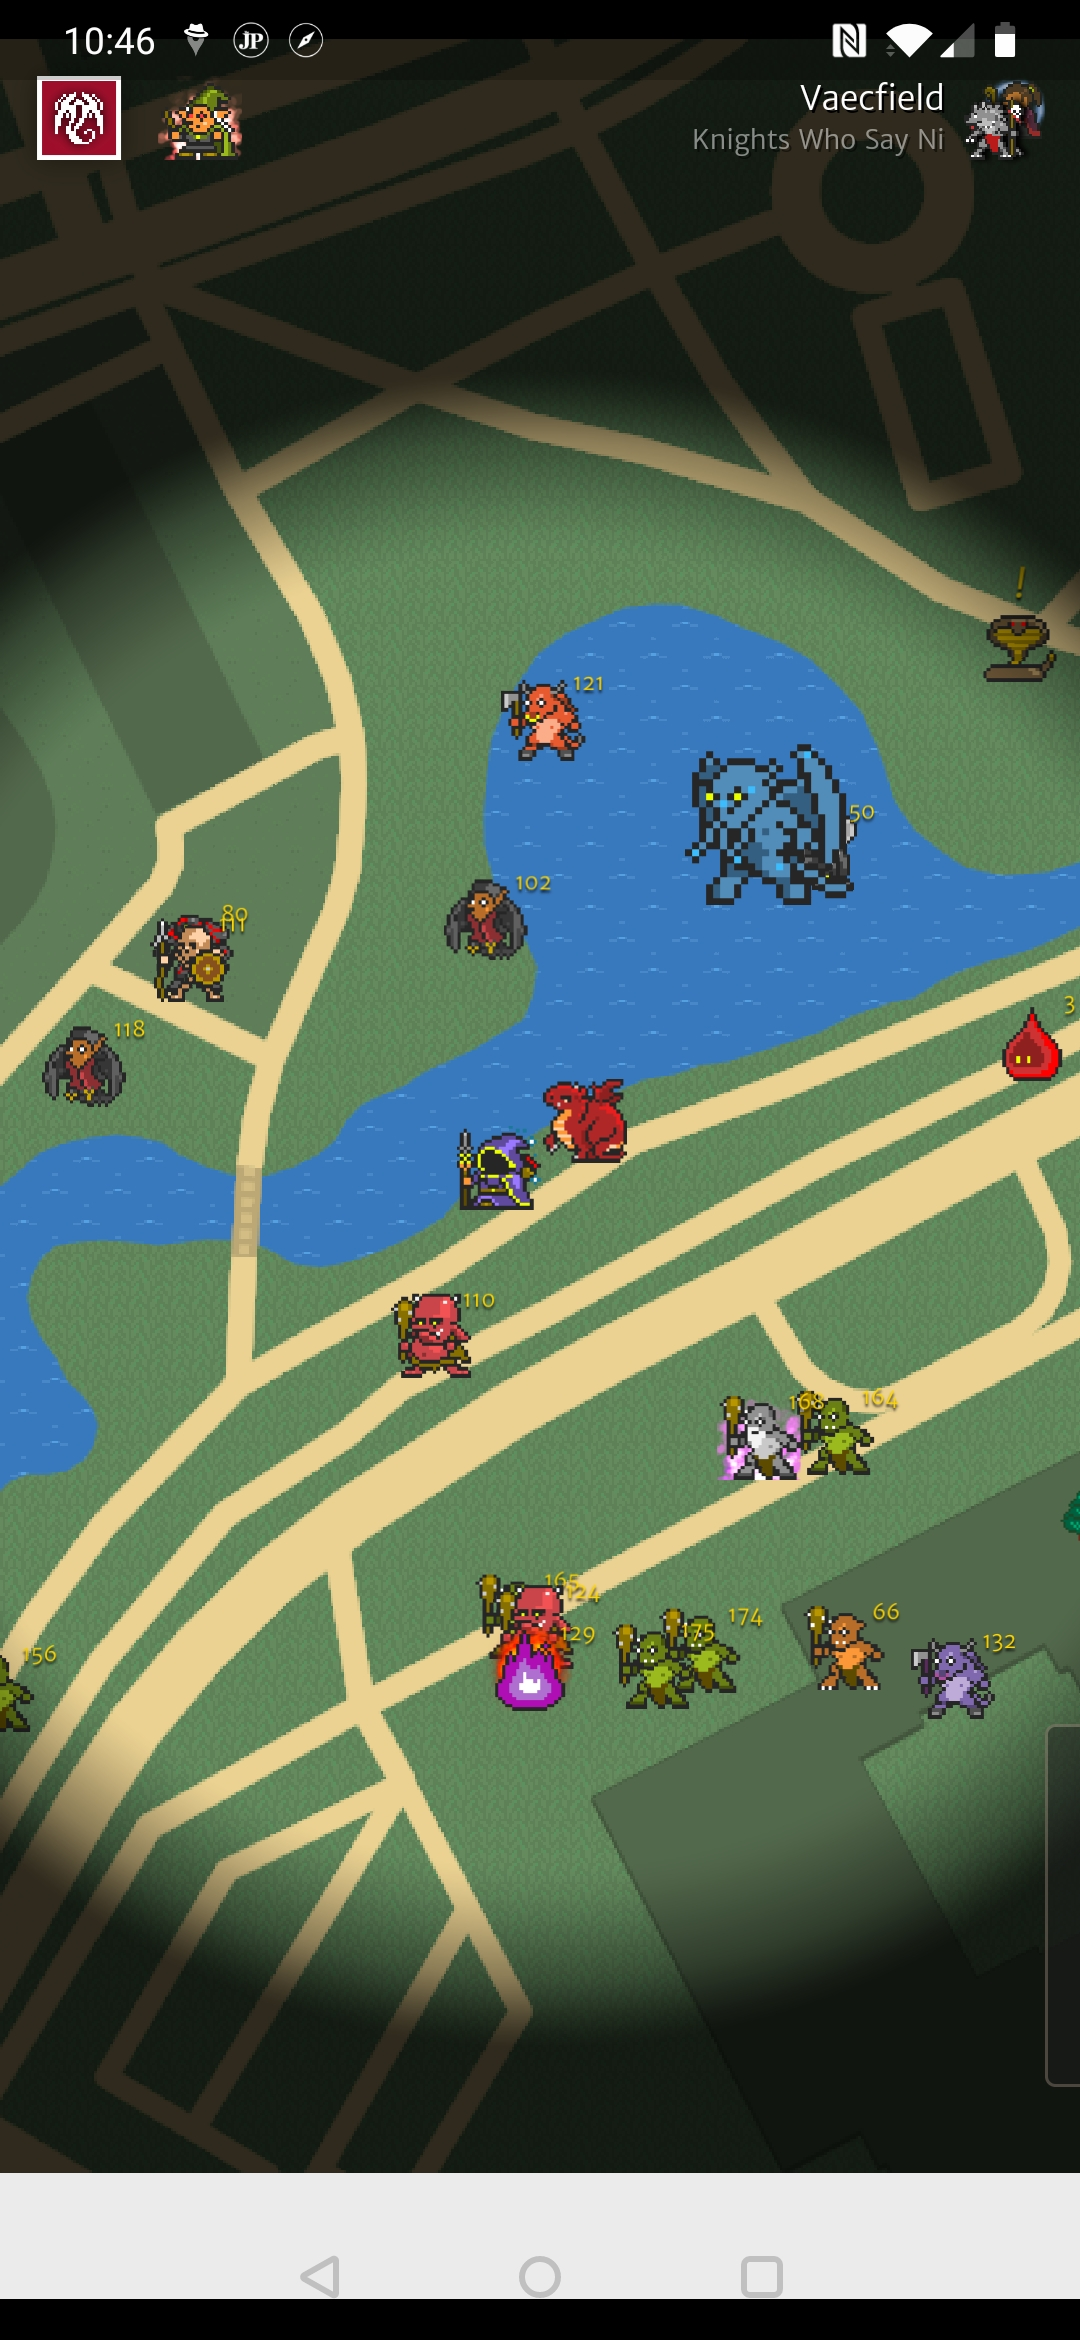monster: (498, 668, 608, 778), (436, 868, 543, 975), (143, 916, 250, 1023), (388, 1285, 491, 1388), (36, 1020, 136, 1120), (970, 613, 1070, 713), (474, 1571, 574, 1671), (805, 1599, 898, 1692), (988, 1002, 1080, 1093), (663, 1602, 753, 1692), (715, 1396, 801, 1482), (805, 1396, 891, 1482), (612, 1620, 698, 1706), (912, 1637, 995, 1720)
player: (436, 1123, 543, 1230)
